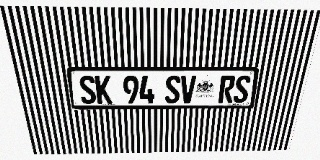4: (139, 75, 154, 104)
9: (123, 75, 139, 104)
K: (95, 75, 112, 104)
R: (218, 75, 236, 103)
S: (78, 75, 97, 104), (233, 75, 251, 103), (165, 75, 181, 103)
V: (180, 75, 196, 103)
